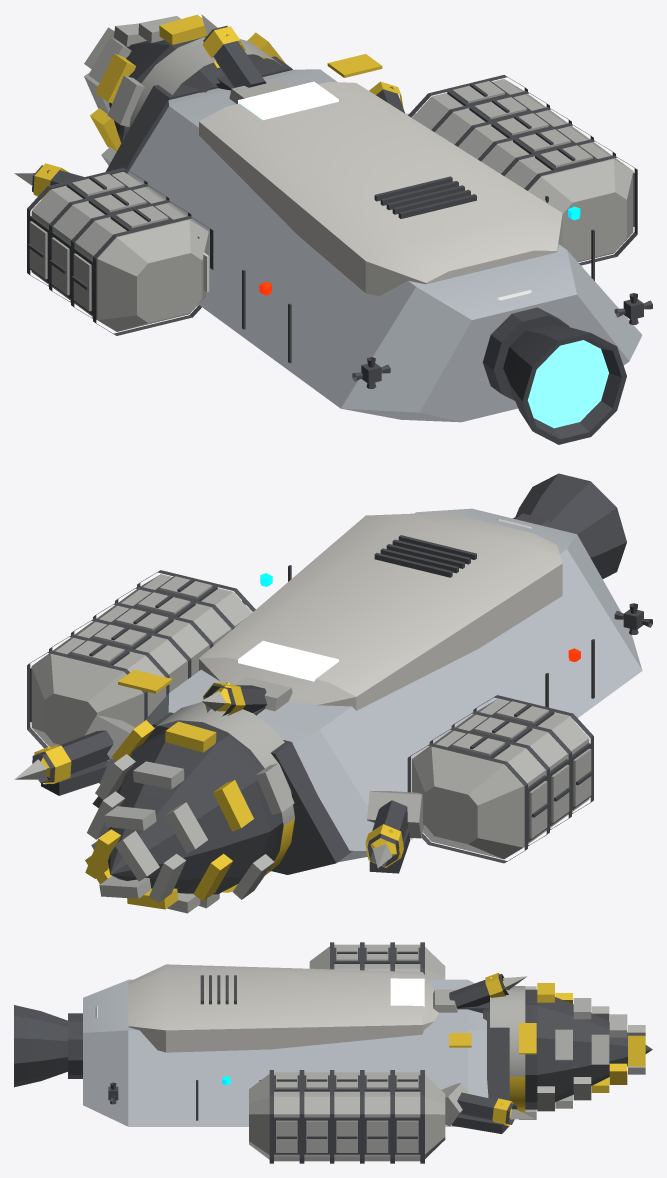
The model's file is rockbreaker.glb.
3 views of the same model, one above another, from view 1: azimuth 30°, elevation 25°; view 2: azimuth 150°, elevation 25°; view 3: azimuth 270°, elevation 25° (orthographic). The views are drawn at different scales.
Visible parts, largest first — view 1: Hull, Rotor_Drill; view 2: Hull, Rotor_Drill; view 3: Hull, Rotor_Drill.
Boxes of the visible parts, x1=… form: Hull: x1=27, y1=25, x2=652, y2=444; Rotor_Drill: x1=84, y1=14, x2=285, y2=165; Hull: x1=27, y1=473, x2=652, y2=874; Rotor_Drill: x1=85, y1=702, x2=294, y2=913; Hull: x1=14, y1=942, x2=516, y2=1163; Rotor_Drill: x1=483, y1=983, x2=652, y2=1119.
Bounding box in the file's own units: 1.26 × 0.4761 × 2.
